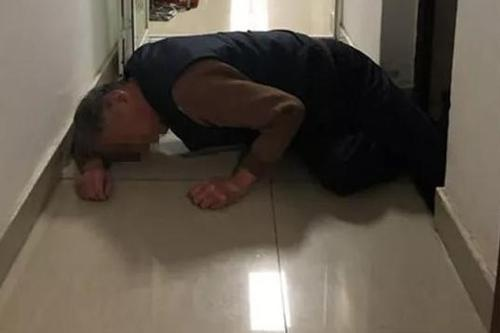falling: (52, 14, 454, 219)
